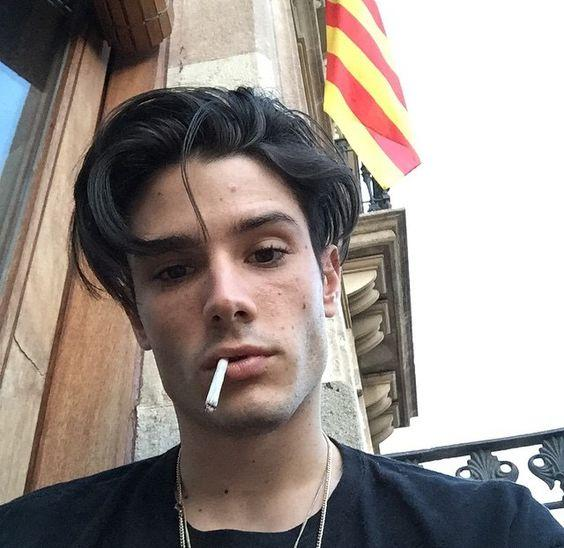cigarette: (203, 356, 230, 417)
